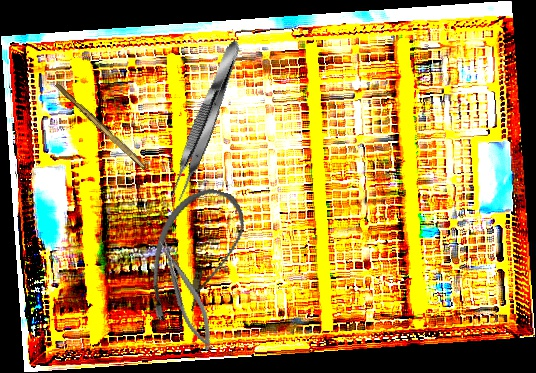Cannula: (137, 178, 253, 336)
Needle Holder: (154, 234, 220, 356)
Scalpel Handle: (52, 82, 150, 170)
Tissue Forceps: (164, 37, 248, 204)
